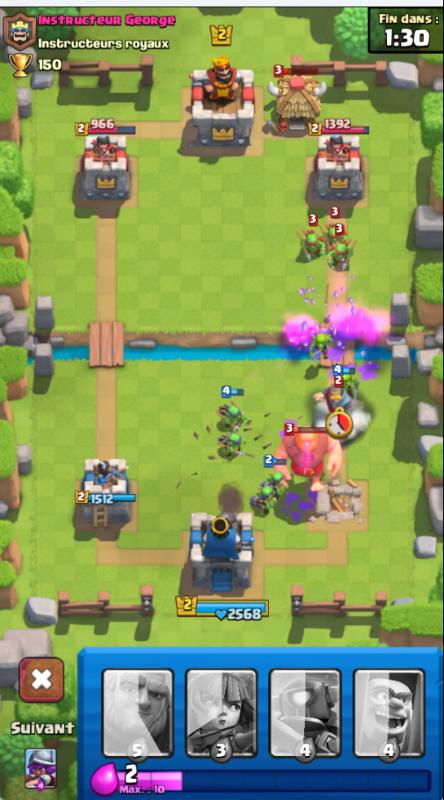chevalier: (314, 378, 359, 425)
geant: (275, 424, 342, 493)
gobelin: (334, 362, 366, 407), (308, 327, 332, 367)
gobelin_lances: (261, 469, 292, 505), (216, 399, 247, 433), (217, 430, 247, 463), (250, 486, 277, 518), (302, 229, 323, 269), (329, 240, 352, 274), (324, 220, 347, 251)
